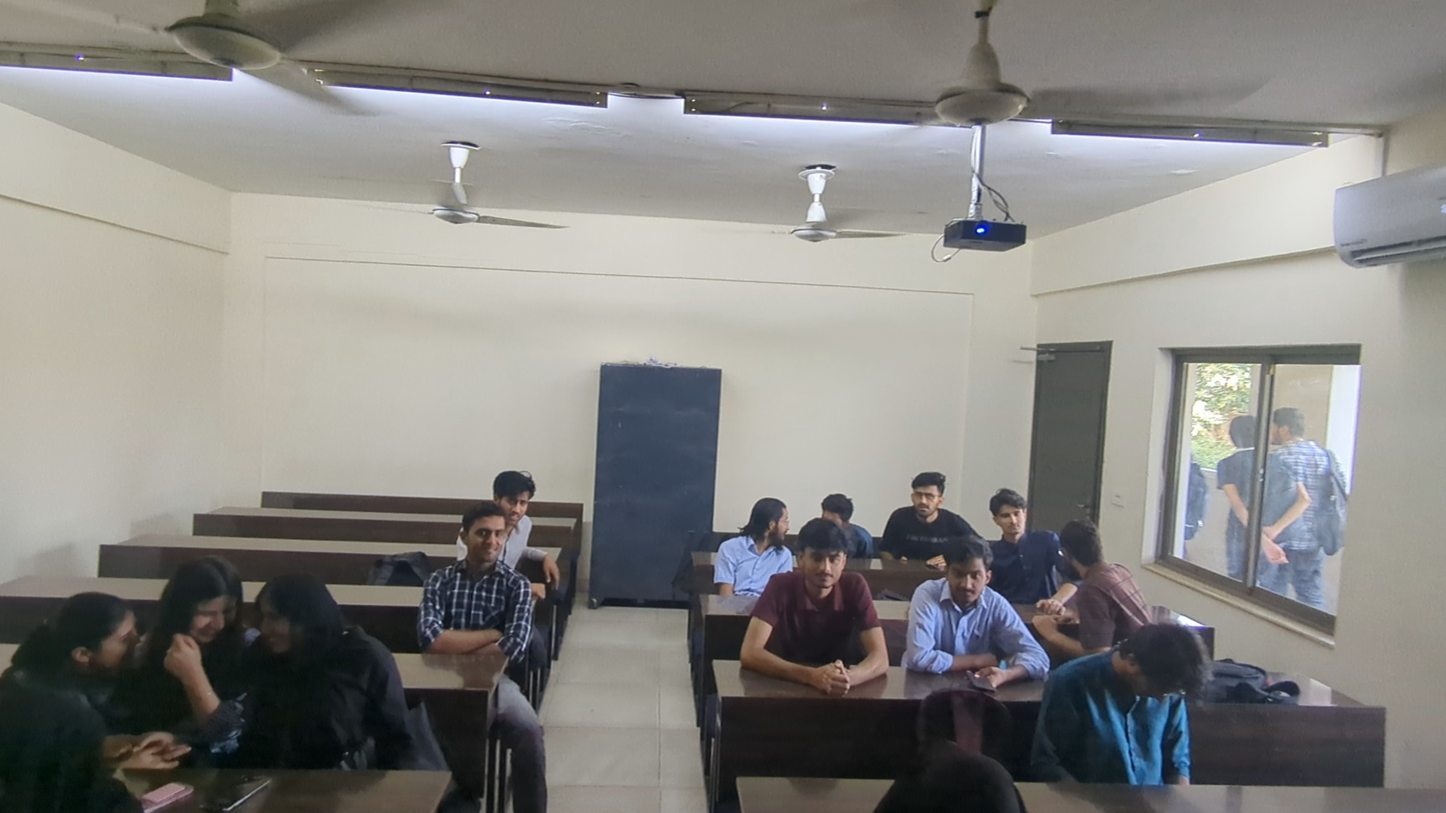handrise: (883, 469, 970, 543)
look_forward: (747, 517, 894, 700), (904, 532, 1050, 696), (416, 495, 538, 667), (488, 463, 549, 538), (808, 488, 869, 529)
stand: (31, 590, 137, 689)
turn_head: (221, 558, 409, 766), (1030, 513, 1160, 640), (153, 555, 252, 683), (722, 487, 794, 584), (986, 484, 1058, 558)
using_device: (1035, 613, 1213, 789)
